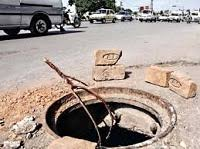Manhole-Open: (41, 81, 183, 148)
car: (1, 1, 73, 39), (90, 7, 121, 25), (138, 8, 161, 27), (162, 9, 194, 21), (118, 7, 135, 22)
